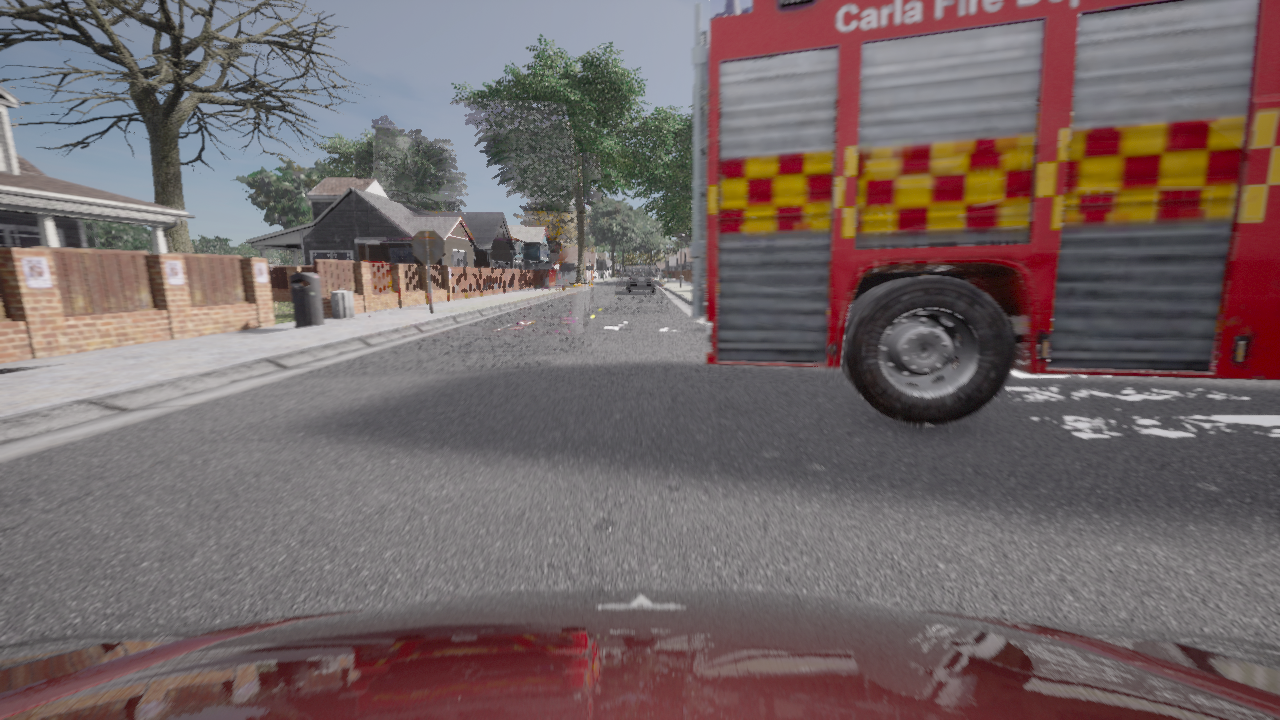cyclist: (690, 0, 1279, 425), (0, 588, 1279, 719), (627, 268, 654, 293)
